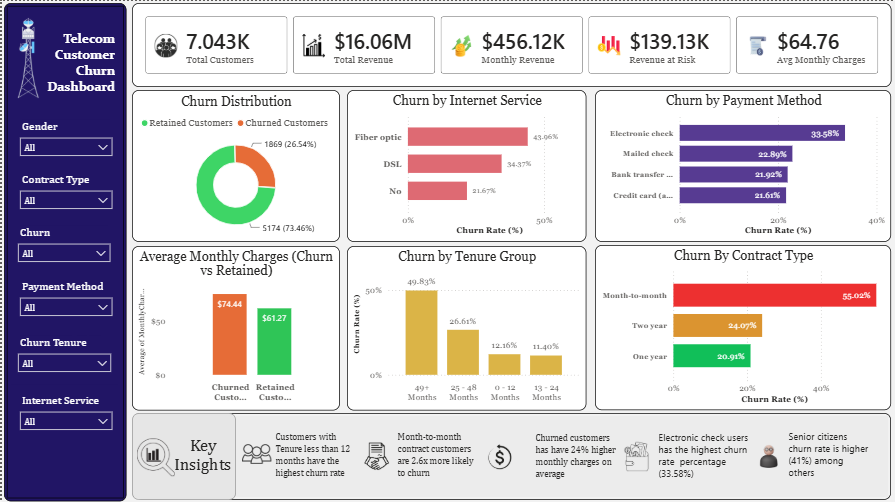

The dashboard page shown, as its layout file describes it:
{"tool":"powerbi","page":{"name":"Page 1","canvas":[1280,720],"ordinal":0},"visuals":[{"type":"donutChart","title":"Churn Distribution","fields":{"Y":["CountNonNull(WA_Fn-UseC_-Telco-Customer-Churn.Churn)"],"Category":["WA_Fn-UseC_-Telco-Customer-Churn.Customer Status"]},"box":[185,126.7,296.7,216.7],"z":0},{"type":"barChart","title":"Churn By Contract Type","fields":{"Category":["WA_Fn-UseC_-Telco-Customer-Churn.Contract"],"Y":["CountNonNull(WA_Fn-UseC_-Telco-Customer-Churn.Churn)"]},"box":[843.3,350,421.7,235],"z":1000},{"type":"columnChart","title":"Average Monthly Charges                 (Churn vs Retained)","fields":{"Y":["Avg(WA_Fn-UseC_-Telco-Customer-Churn.MonthlyCharges)"],"Category":["WA_Fn-UseC_-Telco-Customer-Churn.Customer Status"]},"box":[185,350,296.7,235],"z":2000},{"type":"barChart","title":"Churn by Payment Method","fields":{"Y":["CountNonNull(WA_Fn-UseC_-Telco-Customer-Churn.Churn)"],"Category":["WA_Fn-UseC_-Telco-Customer-Churn.PaymentMethod"]},"box":[846.7,126.7,423.3,216.7],"z":3000},{"type":"barChart","title":"Churn by Internet Service","fields":{"Y":["CountNonNull(WA_Fn-UseC_-Telco-Customer-Churn.Churn)"],"Category":["WA_Fn-UseC_-Telco-Customer-Churn.InternetService"]},"box":[493.3,126.7,341.7,216.7],"z":4000},{"type":"columnChart","title":"Churn by Tenure Group","fields":{"Y":["Sum(WA_Fn-UseC_-Telco-Customer-Churn.Tenure Group Sort)"],"Category":["WA_Fn-UseC_-Telco-Customer-Churn.Tenure Group Sort"]},"box":[493.3,350,341.7,235],"z":5000},{"type":"shape","box":[3.3,3.3,175,711.7],"z":6000},{"type":"shape","box":[185.7,590,1080,124.3],"z":7000},{"type":"cardVisual","fields":{"Data":["CountNonNull(WA_Fn-UseC_-Telco-Customer-Churn.Total Customers)","Sum(WA_Fn-UseC_-Telco-Customer-Churn.TotalCharges)","Sum(WA_Fn-UseC_-Telco-Customer-Churn.MonthlyCharges)1","WA_Fn-UseC_-Telco-Customer-Churn.churned Revenue","Avg(WA_Fn-UseC_-Telco-Customer-Churn.MonthlyCharges)"]},"box":[185,3.3,1085,120],"z":8000},{"type":"textbox","box":[51.7,36.7,115,105],"z":9000},{"type":"image","box":[0,21.7,75,120],"z":10000},{"type":"slicer","fields":{"Values":["WA_Fn-UseC_-Telco-Customer-Churn.gender"]},"box":[15,165,151.7,60],"z":11000},{"type":"slicer","fields":{"Values":["WA_Fn-UseC_-Telco-Customer-Churn.Contract"]},"box":[15,240,151.7,76.7],"z":12000},{"type":"slicer","fields":{"Values":["WA_Fn-UseC_-Telco-Customer-Churn.Churn"]},"box":[13.3,315,151.7,83.3],"z":13000},{"type":"slicer","fields":{"Values":["WA_Fn-UseC_-Telco-Customer-Churn.PaymentMethod"]},"box":[15,393.3,151.7,76.7],"z":14000},{"type":"slicer","fields":{"Values":["WA_Fn-UseC_-Telco-Customer-Churn.InternetService"]},"box":[15,555,151.7,78.3],"z":15000},{"type":"slicer","fields":{"Values":["WA_Fn-UseC_-Telco-Customer-Churn.ChurnTenure"]},"box":[13.3,473.3,153.3,75],"z":16000},{"type":"shape","box":[186.2,590,147.5,123.8],"z":17000},{"type":"textbox","box":[239.5,613.8,93.6,67.4],"z":18000},{"type":"image","box":[192.7,622.7,53.6,58.2],"z":19000},{"type":"image","box":[343.3,626.7,41.7,40],"z":20000},{"type":"textbox","box":[385,608.3,121.7,98.3],"z":21000},{"type":"image","box":[493.8,630,81.2,41.2],"z":22000},{"type":"textbox","box":[560,608.3,123.3,93.3],"z":23000},{"type":"image","box":[683.8,630,53.8,41.2],"z":24000},{"type":"textbox","box":[756.7,610,130,81.7],"z":25000},{"type":"image","box":[886.2,626.2,41.2,50],"z":26000},{"type":"textbox","box":[932.5,610,140,85],"z":27000},{"type":"image","box":[1072.5,618.8,46.2,65],"z":28000},{"type":"textbox","box":[1118.8,608.8,128.8,77.5],"z":29000}]}

Visuals, with their boxes in screenshot pixels (x1, y1, x2, y2), scaled from the page's 1280x720 canvas onto the 895x502 screenshot:
"Churn Distribution" donutChart: 129 88 337 239
"Churn By Contract Type" barChart: 590 244 885 408
"Average Monthly Charges                 (Churn vs Retained)" columnChart: 129 244 337 408
"Churn by Payment Method" barChart: 592 88 888 239
"Churn by Internet Service" barChart: 345 88 584 239
"Churn by Tenure Group" columnChart: 345 244 584 408
shape: 2 2 125 499
shape: 130 411 885 498
cardVisual - CountNonNull(WA_Fn-UseC_-Telco-Customer-Churn.Total Customers) x Sum(WA_Fn-UseC_-Telco-Customer-Churn.TotalCharges): 129 2 888 86
textbox: 36 26 117 99
image: 0 15 52 99
slicer - WA_Fn-UseC_-Telco-Customer-Churn.gender: 10 115 117 157
slicer - WA_Fn-UseC_-Telco-Customer-Churn.Contract: 10 167 117 221
slicer - WA_Fn-UseC_-Telco-Customer-Churn.Churn: 9 220 115 278
slicer - WA_Fn-UseC_-Telco-Customer-Churn.PaymentMethod: 10 274 117 328
slicer - WA_Fn-UseC_-Telco-Customer-Churn.InternetService: 10 387 117 442
slicer - WA_Fn-UseC_-Telco-Customer-Churn.ChurnTenure: 9 330 116 382
shape: 130 411 233 498
textbox: 167 428 233 475
image: 135 434 172 475
image: 240 437 269 465
textbox: 269 424 354 493
image: 345 439 402 468
textbox: 392 424 478 489
image: 478 439 516 468
textbox: 529 425 620 482
image: 620 437 648 471
textbox: 652 425 750 485
image: 750 431 782 477
textbox: 782 424 872 479
